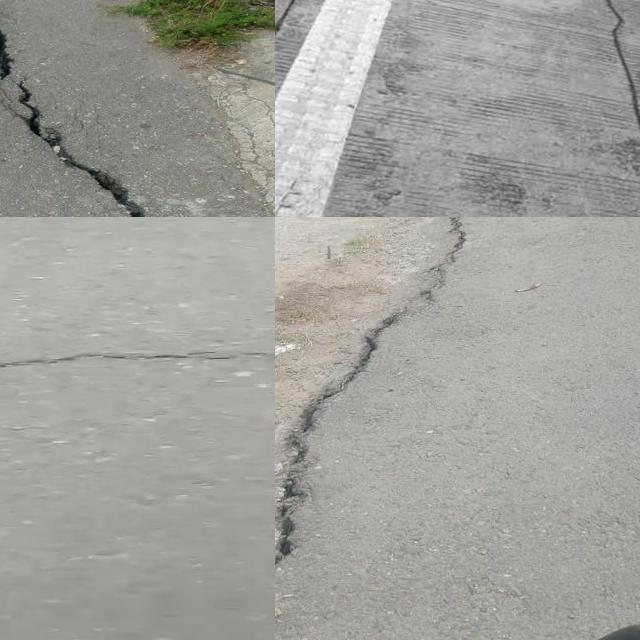Melintang: (0, 334, 275, 386)
Memanjang: (275, 217, 498, 613), (0, 2, 161, 217), (597, 0, 640, 217)
